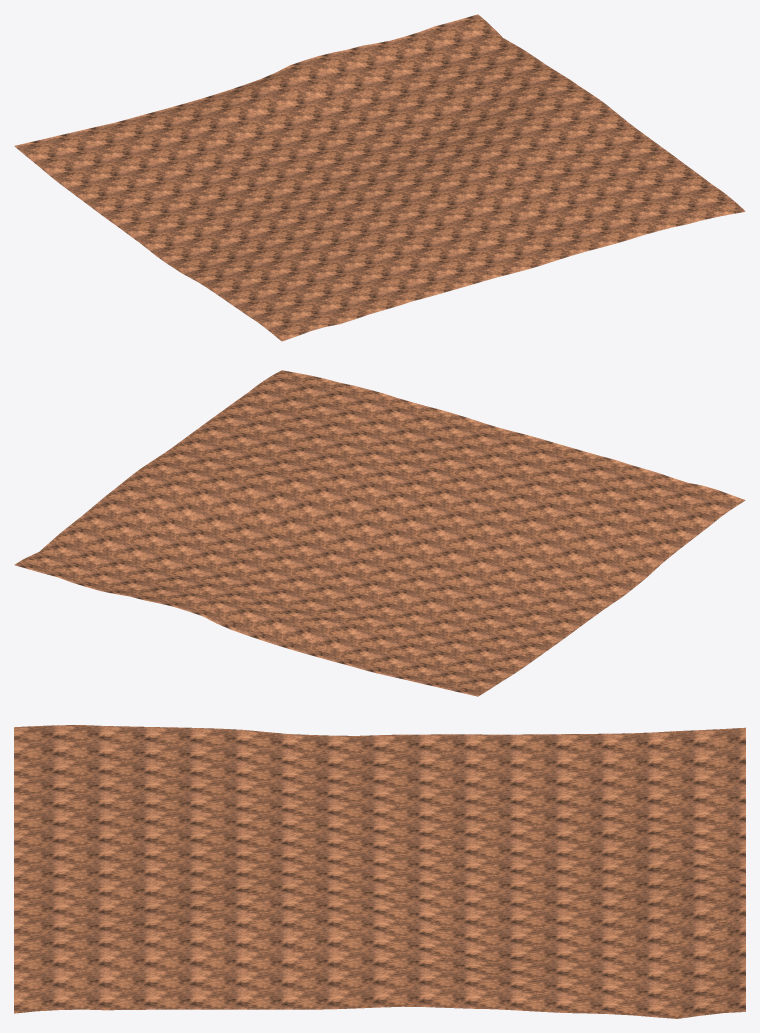
Rendered from terrain_08_18.dae.
3 views of the same model, one above another, from view 1: azimuth 30°, elevation 25°; view 2: azimuth 150°, elevation 25°; view 3: azimuth 270°, elevation 25° (orthographic). The views are drawn at different scales.
Visible parts, largest first — view 1: terrain_08_18-node; view 2: terrain_08_18-node; view 3: terrain_08_18-node.
Part boxes in pixels (left/top/right/bottom): terrain_08_18-node: left=14, top=14, right=745, bottom=341; terrain_08_18-node: left=14, top=370, right=745, bottom=696; terrain_08_18-node: left=14, top=725, right=745, bottom=1018.
Size of the model in its own units: 128 by 128 by 7.43.
Materials: 1 (1 with a texture image).
